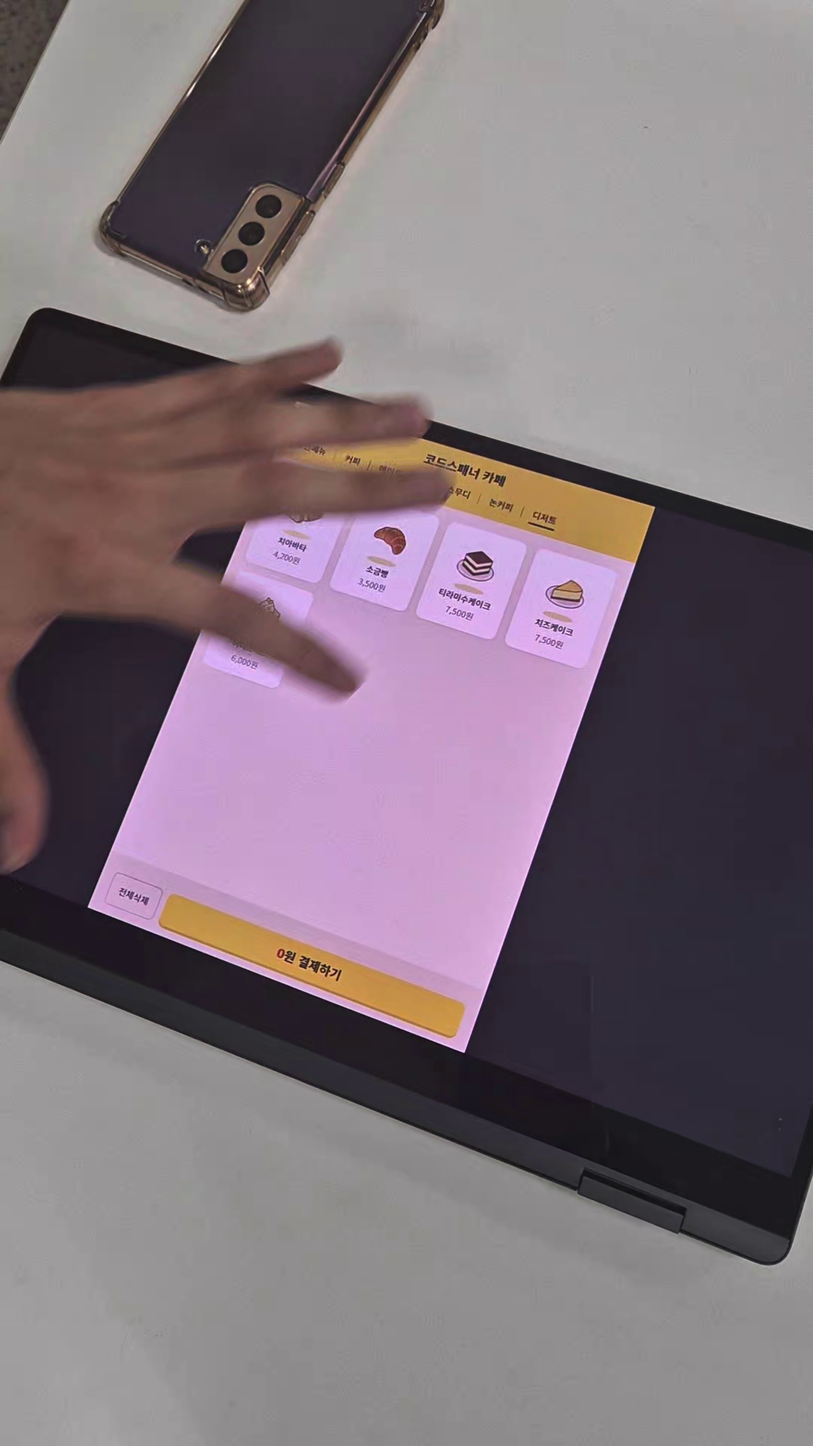action_button: (157, 892, 468, 1041), (104, 872, 163, 920)
category_tab: (487, 496, 515, 514), (530, 509, 559, 526)
menu_back: (502, 546, 619, 671), (414, 520, 529, 641), (327, 495, 441, 613), (244, 467, 358, 584)
